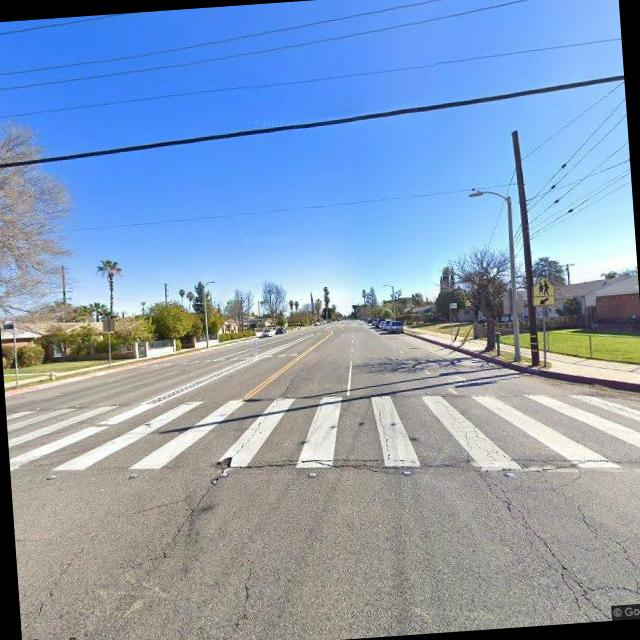crack: (232, 425, 640, 497), (475, 461, 640, 627), (159, 371, 309, 542), (15, 542, 93, 638), (232, 556, 260, 628), (370, 392, 395, 458), (125, 494, 189, 515)
pothole: (200, 446, 240, 478)
